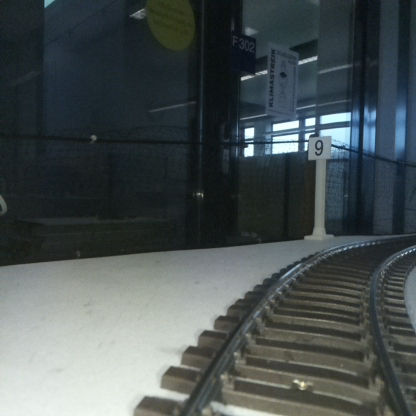white-info-9: (308, 135, 330, 238)
